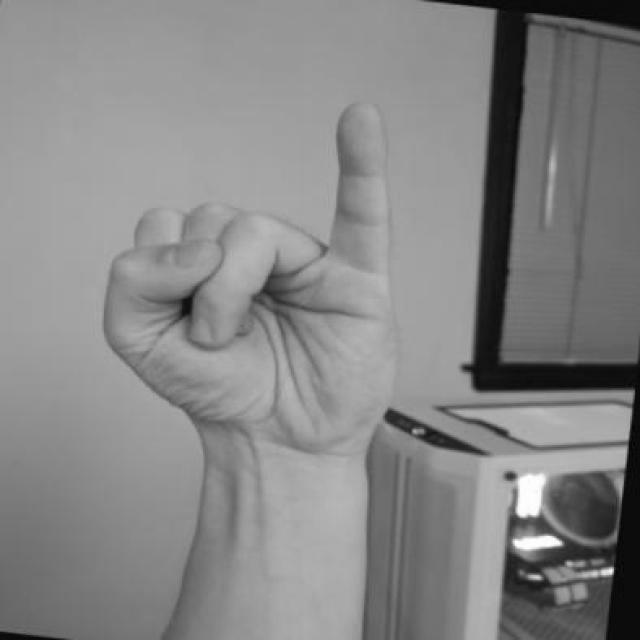I: (82, 62, 444, 476)
